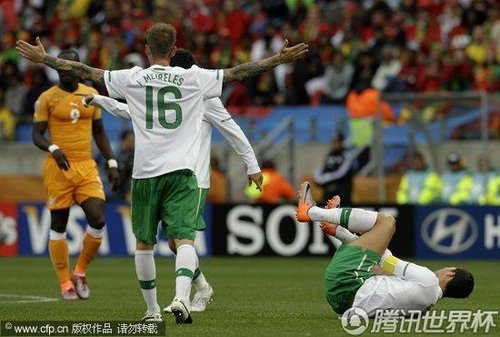10+: (7, 1, 497, 323)
down: (290, 179, 481, 322)
